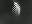person: (12, 2, 23, 18)
